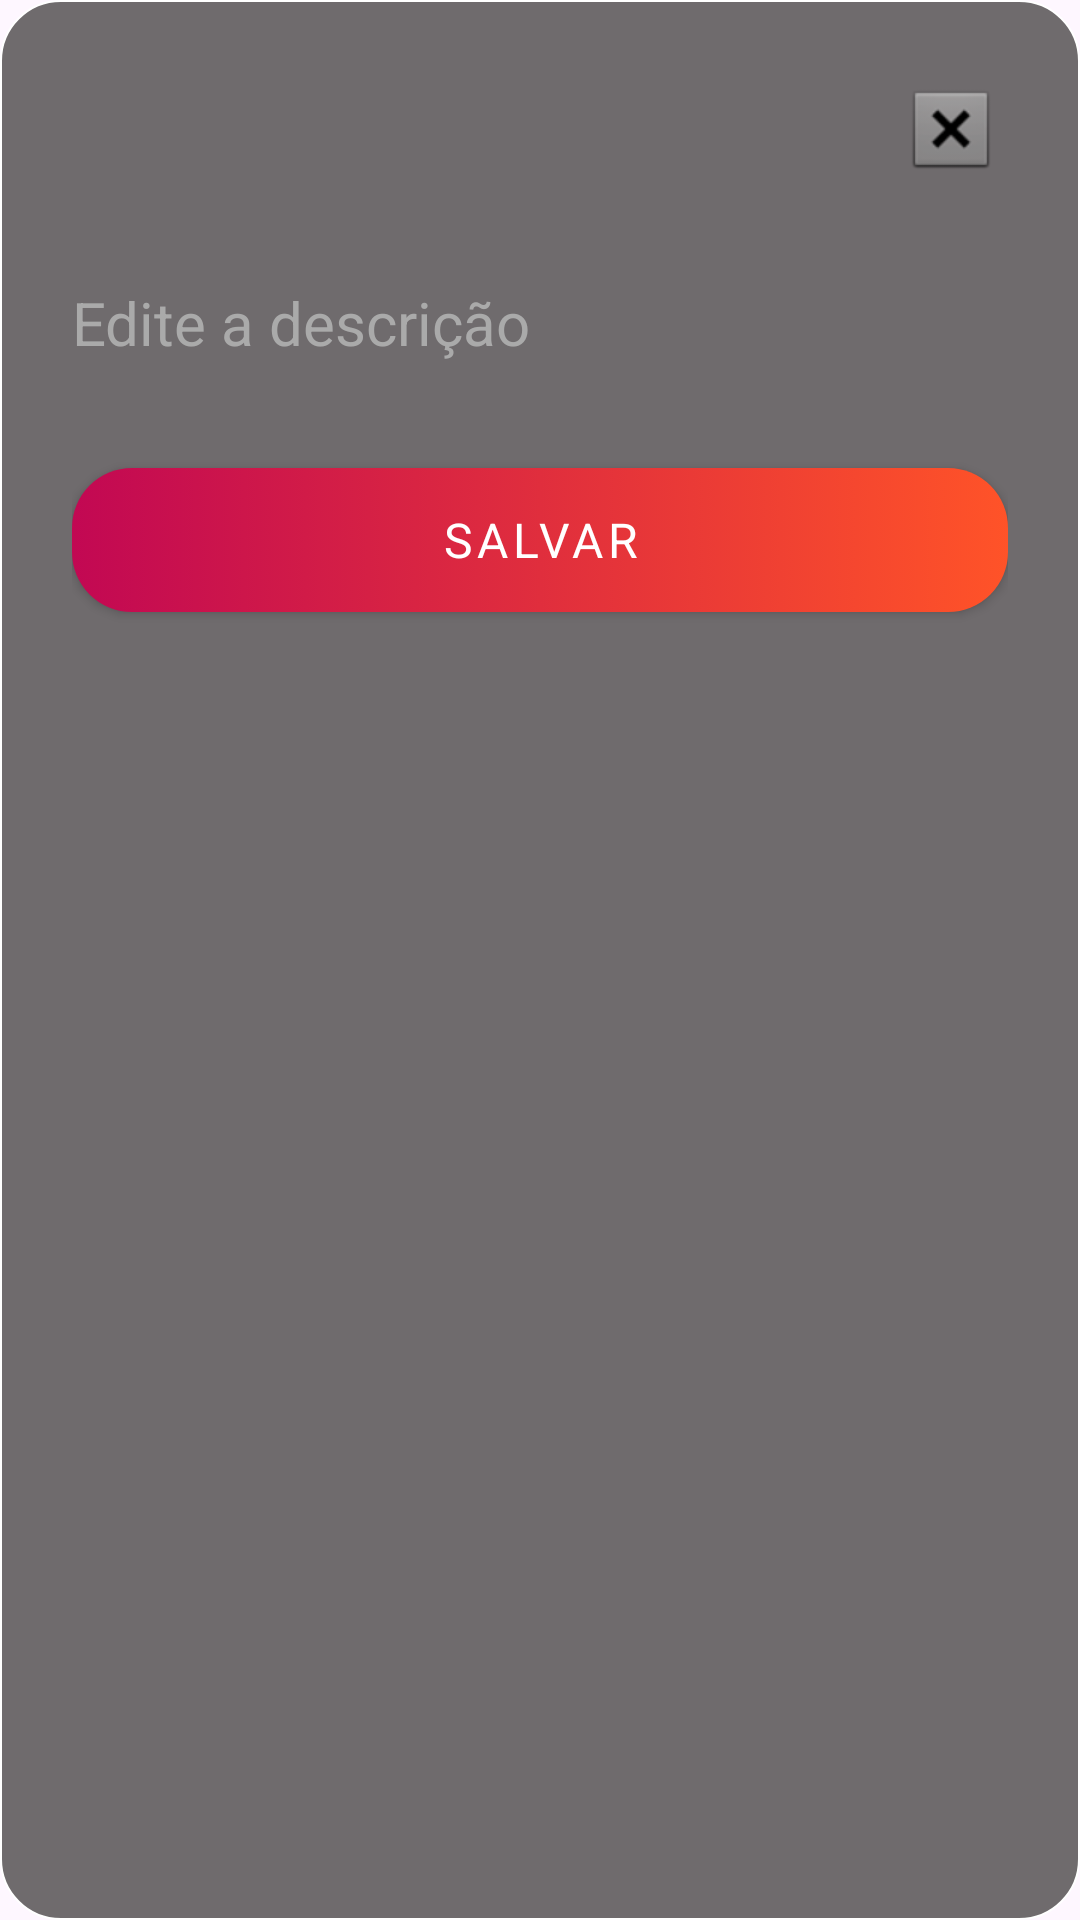

Where icons sit on this 1080x1920 app screen, as (x1, y1, x2, y2):
Fechar: (913, 93, 989, 168)
